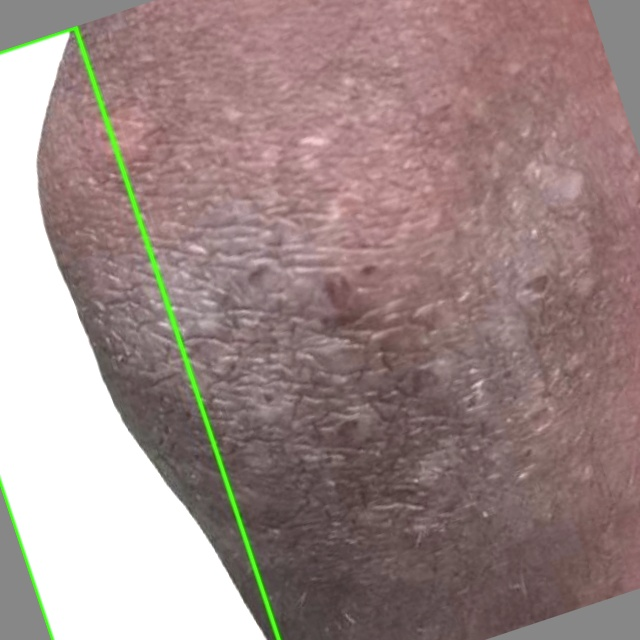Eczema: (0, 27, 278, 639)
